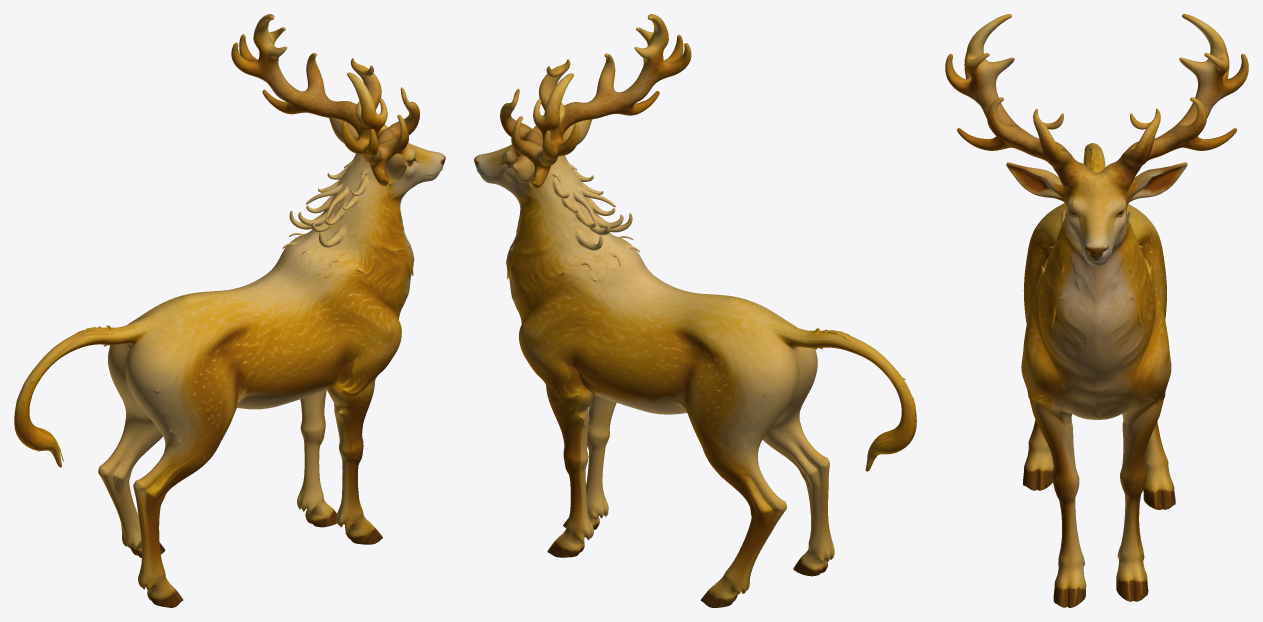
File: qi-lin.glb
3 views of the same model, side by side, from view 1: azimuth 30°, elevation 25°; view 2: azimuth 150°, elevation 25°; view 3: azimuth 270°, elevation 25° (orthographic). The views are drawn at different scales.
Visible parts, largest first — view 1: material; view 2: material; view 3: material.
Part boxes in pixels (x1,y1,x2,y2): material: [14, 14, 445, 607]; material: [474, 14, 916, 607]; material: [945, 14, 1248, 607].
Bounding box in the file's own units: 0.9416 × 1.04 × 0.5062.
Materials: 1 (1 with a texture image).
